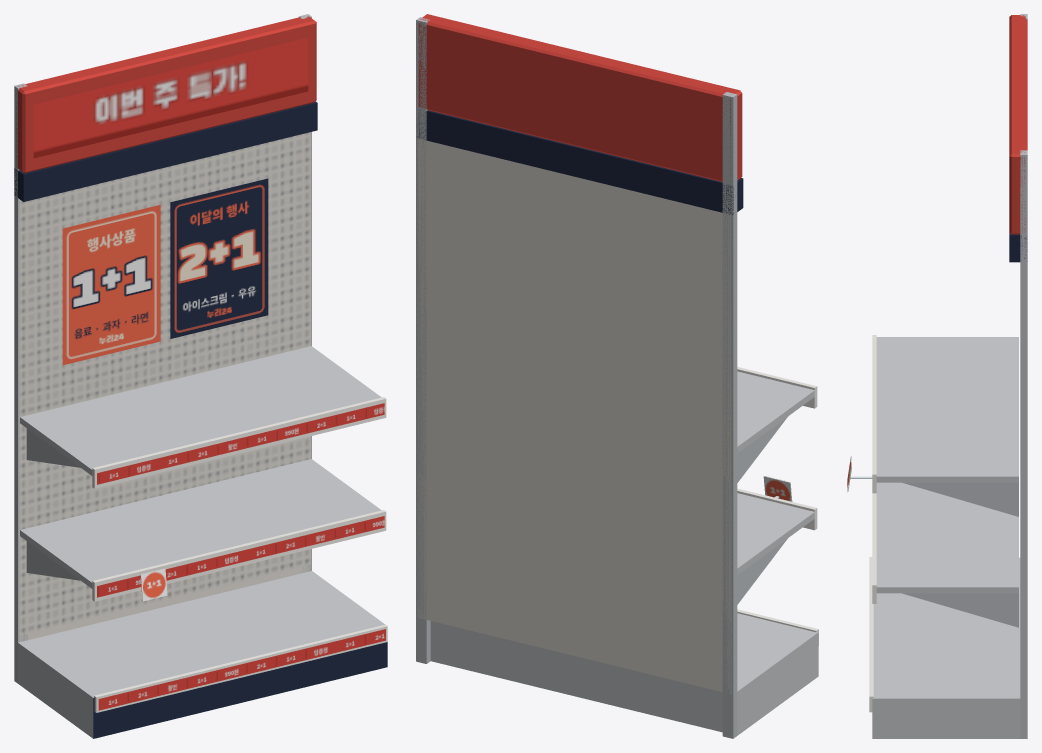
The model's file is SC_Fix_Shelf_EndCap.gltf.
The picture shows the model from 3 angles, left to right: view 1: azimuth 30°, elevation 25°; view 2: azimuth 150°, elevation 25°; view 3: azimuth 270°, elevation 25°; orthographic projection. The views are drawn at different scales.
Parts seen in each view (by area): view 1: SC_Fix_Shelf_EndCap; view 2: SC_Fix_Shelf_EndCap; view 3: SC_Fix_Shelf_EndCap.
Part boxes in pixels (bbox=[...]): SC_Fix_Shelf_EndCap: bbox=[14, 14, 387, 738]; SC_Fix_Shelf_EndCap: bbox=[416, 14, 818, 738]; SC_Fix_Shelf_EndCap: bbox=[847, 14, 1027, 738].
Bounding box in the file's own units: 0.9 × 1.74 × 0.4877.
2 materials, 2 textured.
